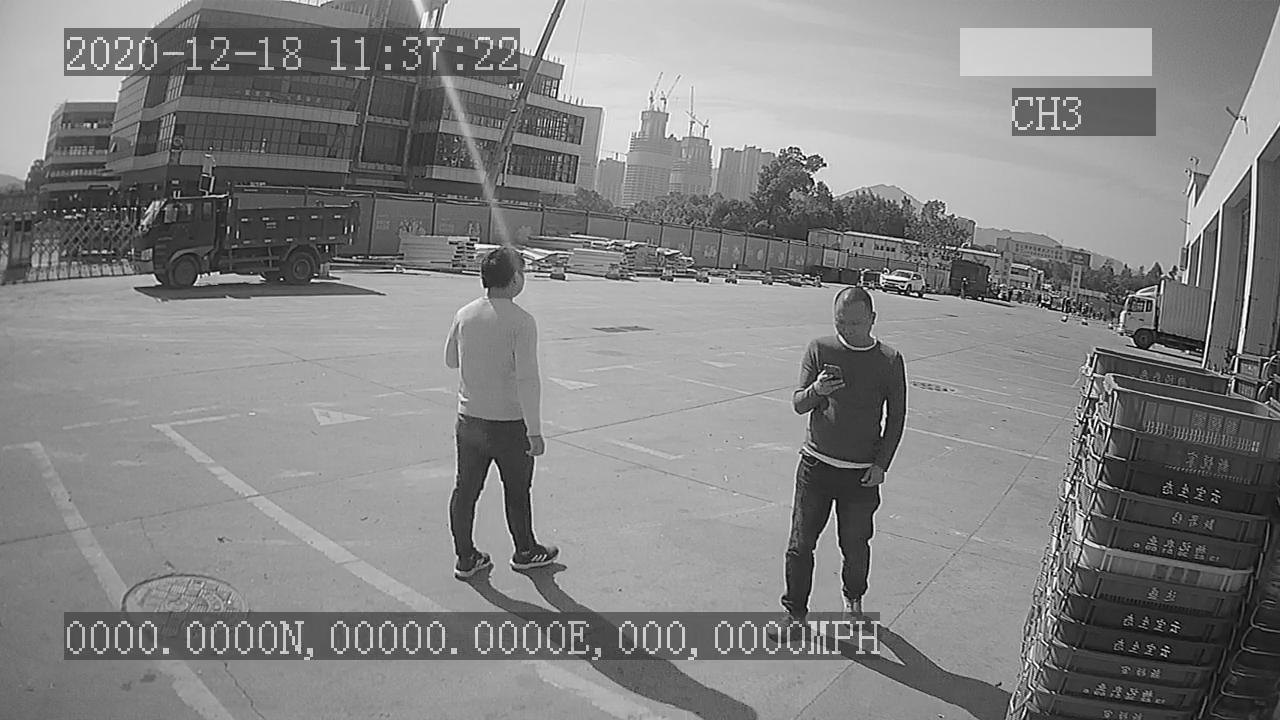person: (439, 243, 562, 576)
